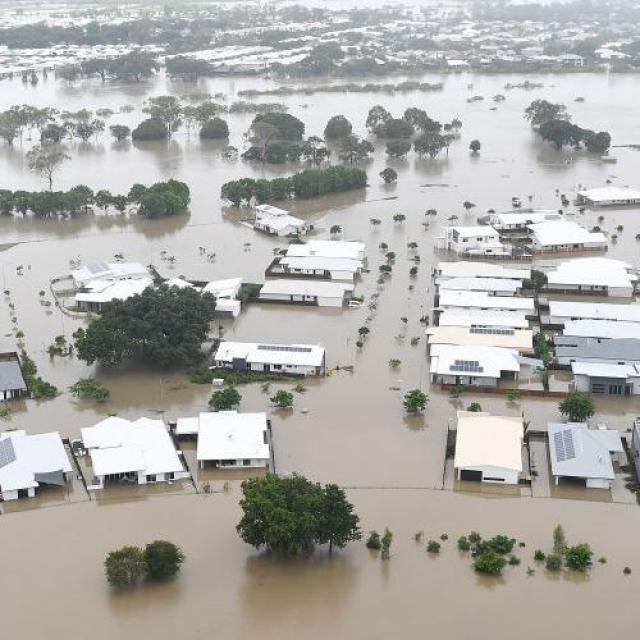flooded_areas: (1, 148, 639, 582)
